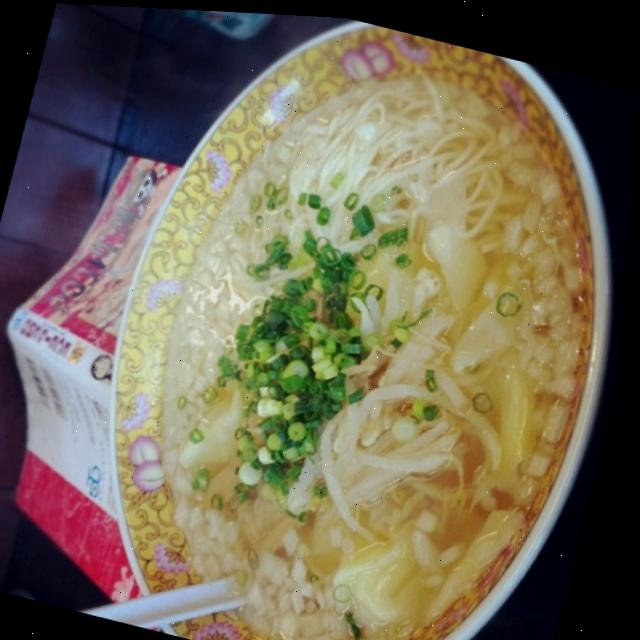面条主食: (60, 4, 640, 640)
